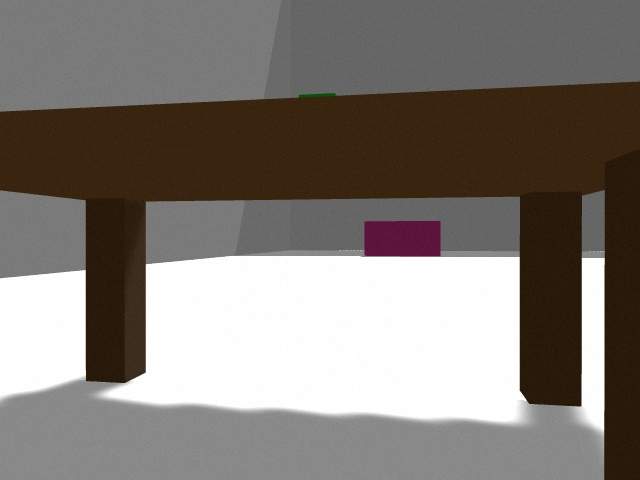red_drop_zone: (364, 221, 441, 256)
